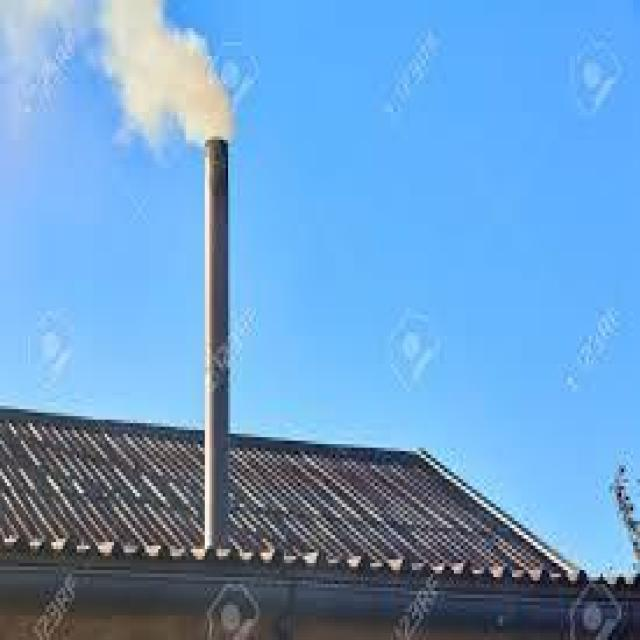Smoke: (6, 12, 243, 153)
